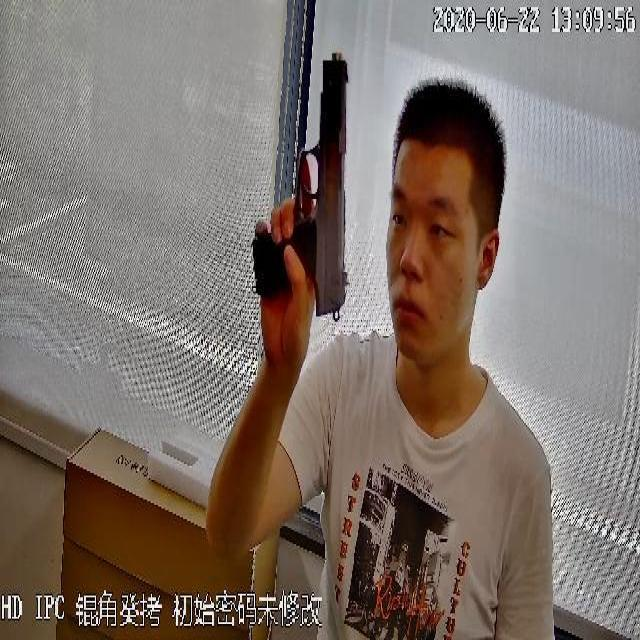pistol: (248, 44, 348, 326)
